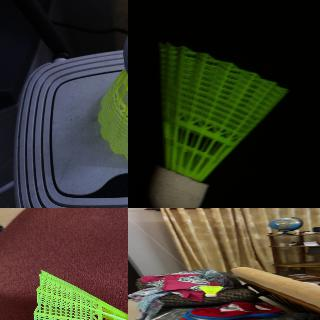shuttlecock: (148, 42, 289, 207), (30, 269, 127, 319), (97, 20, 127, 168), (199, 286, 223, 297)
